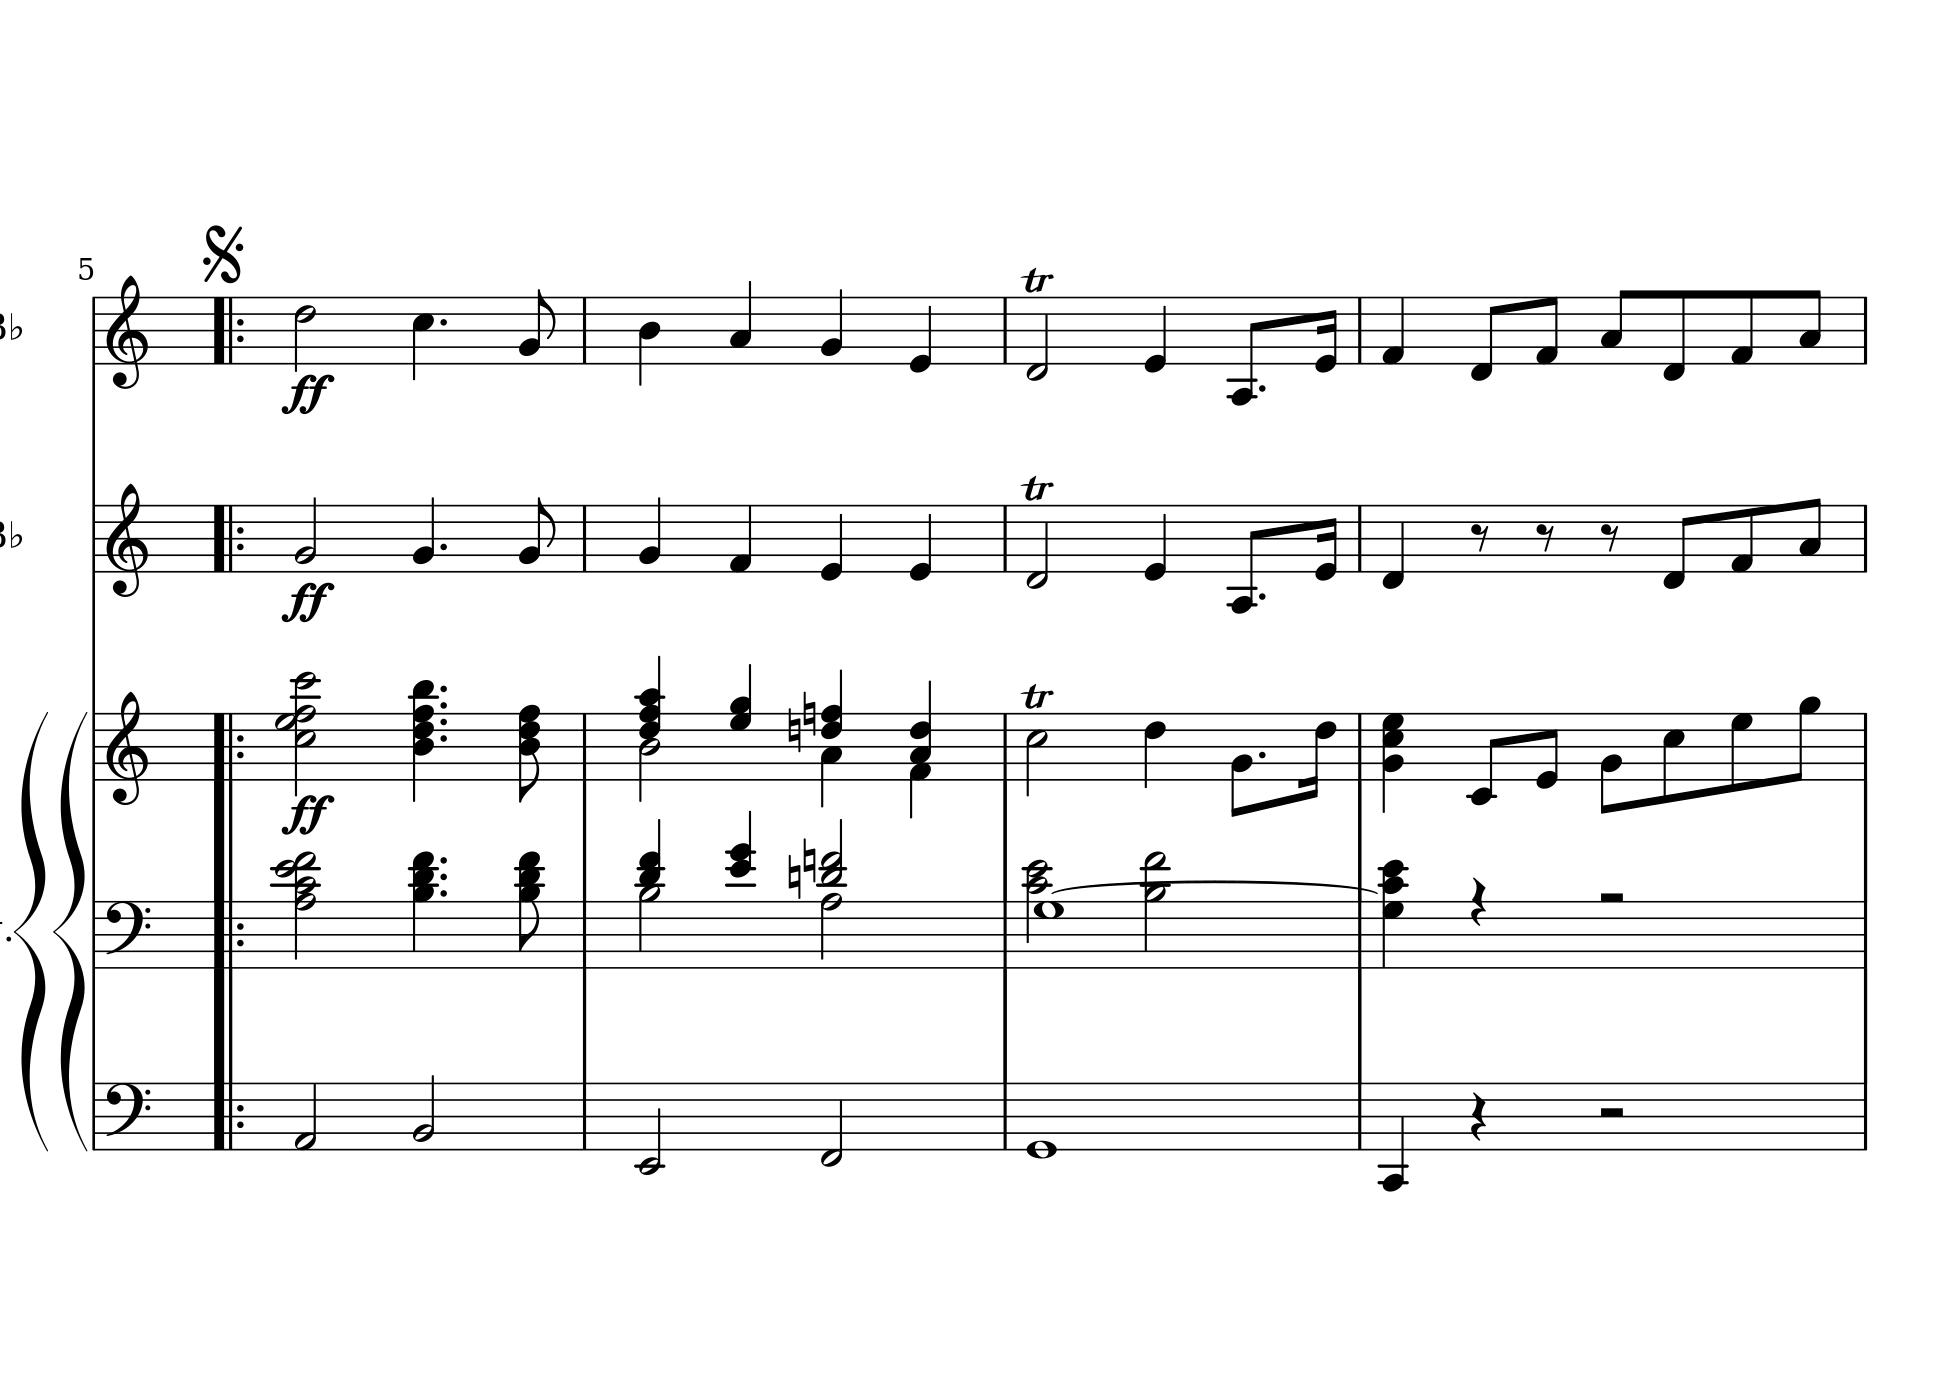16_0: (1312, 294, 1339, 373), (1312, 502, 1339, 582)
16_6: (1299, 709, 1336, 799)
1_0: (1024, 1078, 1059, 1159)
2_-1: (1023, 294, 1050, 382), (817, 1080, 844, 1168), (1023, 502, 1050, 589)
2_-2: (634, 1078, 663, 1176)
2_1: (292, 1080, 318, 1150)
2_2: (292, 493, 319, 573), (409, 1072, 436, 1150)
2_4th: (271, 847, 322, 970), (273, 670, 321, 790)
2_5: (1023, 711, 1050, 798)
2_6: (292, 294, 316, 372)
2_8: (819, 891, 844, 970)
2_9_13: (1141, 850, 1170, 970)
4_-1: (1380, 502, 1405, 589)
4_-4: (1378, 1078, 1408, 1191)
4_0: (817, 502, 844, 582), (1141, 502, 1168, 582), (907, 294, 933, 373), (907, 502, 933, 580), (1143, 294, 1167, 373)
4_1: (1380, 295, 1407, 366), (727, 502, 753, 574)
4_10_12: (724, 810, 756, 970)
4_2: (409, 493, 436, 573), (637, 493, 663, 574), (819, 286, 844, 364)
4_3: (727, 277, 753, 364)
4_4: (636, 294, 661, 385)
4_4th: (409, 679, 439, 799)
4_5: (409, 294, 433, 382)
4_6: (1141, 709, 1167, 790)
4_7_9: (730, 661, 754, 784)
4_th: (1378, 855, 1411, 973), (408, 847, 438, 969), (1380, 711, 1404, 811)
5: (76, 253, 94, 280)
8_-1: (1468, 294, 1503, 382), (1659, 502, 1693, 591), (1660, 286, 1687, 382)
8_-2: (1467, 711, 1501, 805)
8_-4: (1225, 292, 1263, 406), (1227, 501, 1263, 613)
8_0: (1534, 709, 1560, 790)
8_1: (1728, 286, 1756, 366), (1533, 294, 1561, 367), (1728, 502, 1756, 574)
8_2: (517, 286, 555, 364), (517, 495, 555, 573), (1597, 709, 1624, 816), (1228, 711, 1252, 819)
8_3: (1599, 286, 1632, 366), (1797, 285, 1822, 364), (1797, 493, 1822, 573)
8_5: (1660, 709, 1686, 805)
8_7: (1728, 709, 1755, 793)
8_9: (1786, 694, 1821, 784)
8_th: (513, 849, 538, 972), (517, 702, 543, 802)
Brace: (10, 703, 48, 1155), (52, 703, 90, 1155)
Fclef: (100, 1078, 151, 1152), (103, 898, 151, 970)
Gclef: (103, 688, 151, 807), (103, 481, 151, 598), (103, 273, 148, 388)
LeftRepeatSign: (210, 898, 247, 967), (211, 295, 247, 364), (210, 502, 246, 571), (210, 711, 246, 780)
Natural: (801, 687, 817, 738), (784, 705, 801, 754), (784, 850, 801, 900), (801, 832, 816, 886)
Rests2: (1596, 886, 1627, 906), (1596, 1102, 1627, 1120)
Rests4: (1467, 1089, 1489, 1143), (1468, 874, 1488, 928)
Rests8: (1468, 520, 1491, 552), (1599, 520, 1620, 552), (1536, 520, 1555, 552)
RightRepeatSign: (210, 1081, 246, 1150)
Segno: (196, 220, 247, 285)
Single_barline: (1857, 295, 1875, 364), (1353, 898, 1371, 967), (85, 504, 103, 571), (1351, 1081, 1369, 1149), (85, 295, 102, 364), (87, 711, 103, 780), (997, 297, 1014, 364), (1353, 712, 1369, 780), (576, 900, 592, 967), (997, 900, 1014, 967), (1857, 900, 1873, 967), (576, 1081, 592, 1149), (576, 295, 592, 361), (576, 505, 592, 571), (997, 505, 1014, 571), (576, 712, 592, 778), (87, 901, 103, 967), (997, 1081, 1014, 1147), (1857, 1081, 1873, 1147), (997, 714, 1014, 778), (1353, 295, 1368, 364), (1353, 504, 1368, 571), (1858, 504, 1873, 571), (1858, 712, 1873, 780), (88, 1083, 102, 1149)
Trill: (1018, 264, 1054, 295), (1021, 679, 1056, 711), (1020, 472, 1056, 502)
dot: (1255, 381, 1269, 394), (438, 730, 451, 744), (1255, 747, 1269, 760), (436, 715, 451, 727), (436, 315, 448, 328), (1257, 589, 1269, 603), (436, 682, 450, 694), (436, 697, 450, 709), (436, 853, 450, 865), (436, 870, 450, 882), (438, 886, 450, 898), (438, 540, 448, 553)
ff: (279, 370, 334, 418), (277, 579, 334, 625), (280, 792, 334, 837)
